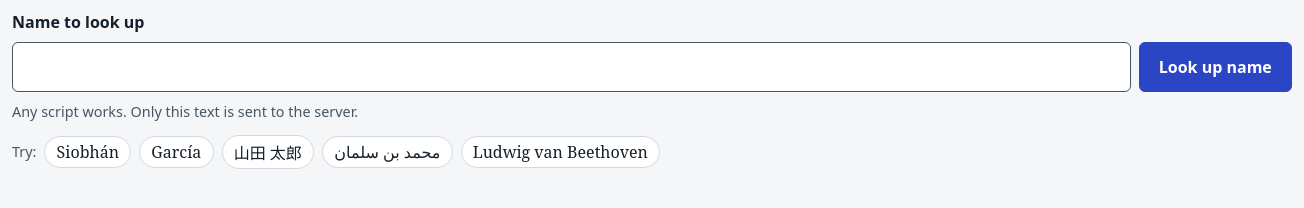
Test: AnalyzeForm › shows an accessible error for empty input and does not submit
Click the button "Look up name" at point(1215, 67), box [1138,42,1292,92]
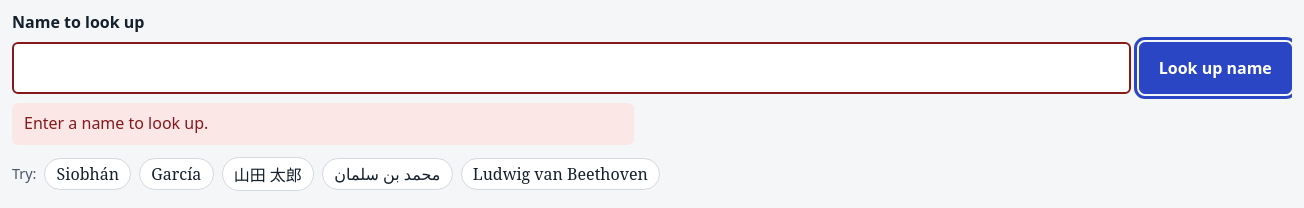
Now the message shows "Enter a name", box [24,112,208,134]
